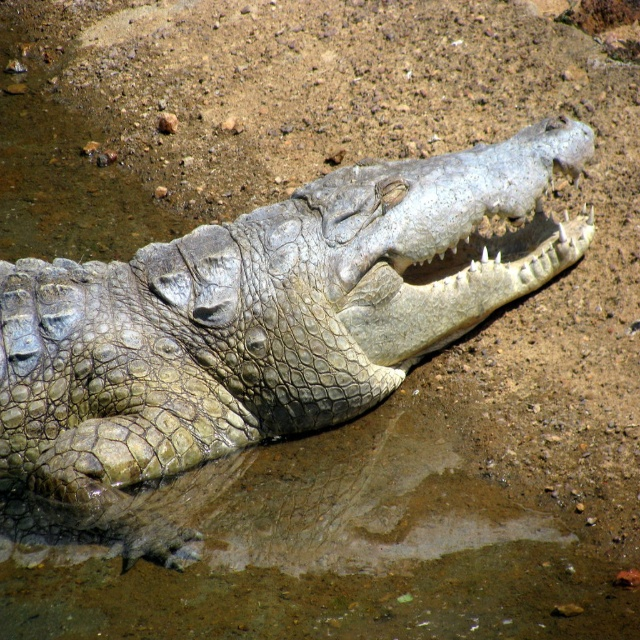Crocodile: (0, 116, 594, 576)
